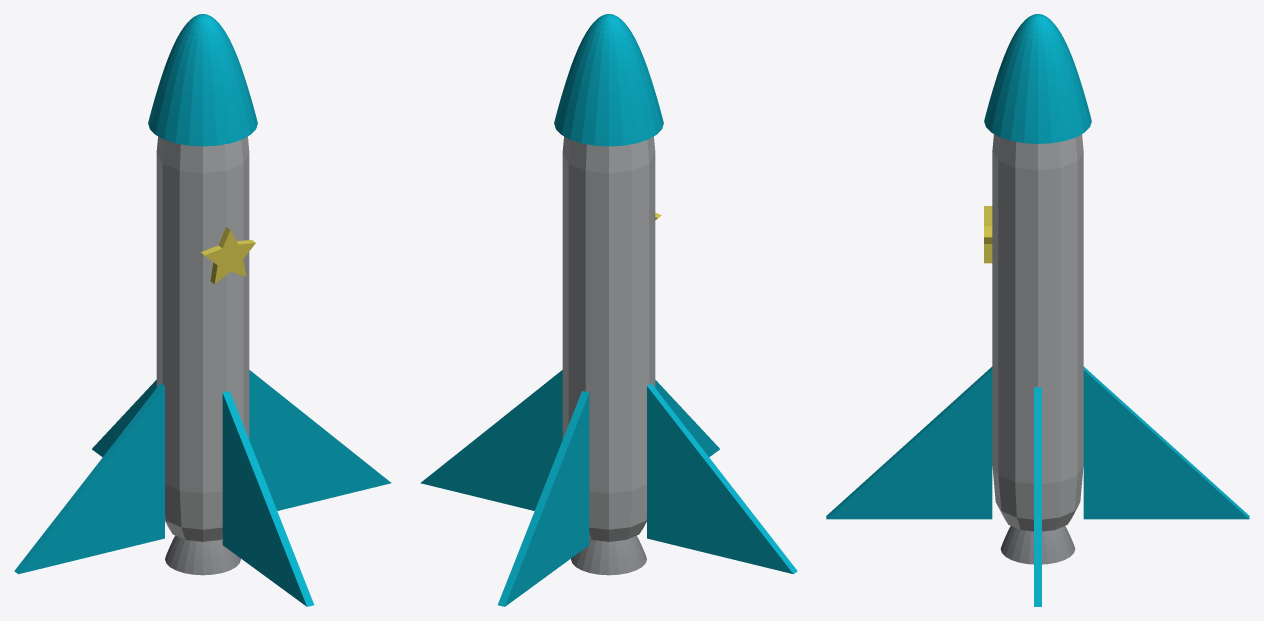
Rendered from missile3.glb.
The picture shows the model from 3 angles, left to right: view 1: azimuth 30°, elevation 25°; view 2: azimuth 150°, elevation 25°; view 3: azimuth 270°, elevation 25°; orthographic projection.
Parts seen in each view (by area): view 1: Mesh_Mesh_head_geo.001_lambert2SG.001; view 2: Mesh_Mesh_head_geo.001_lambert2SG.001; view 3: Mesh_Mesh_head_geo.001_lambert2SG.001.
Boxes of the visible parts, left/top/right/bottom form: Mesh_Mesh_head_geo.001_lambert2SG.001: left=14, top=14, right=391, bottom=606; Mesh_Mesh_head_geo.001_lambert2SG.001: left=420, top=14, right=797, bottom=606; Mesh_Mesh_head_geo.001_lambert2SG.001: left=826, top=14, right=1249, bottom=606.
Size of the model in its own units: 51 by 71 by 51.
